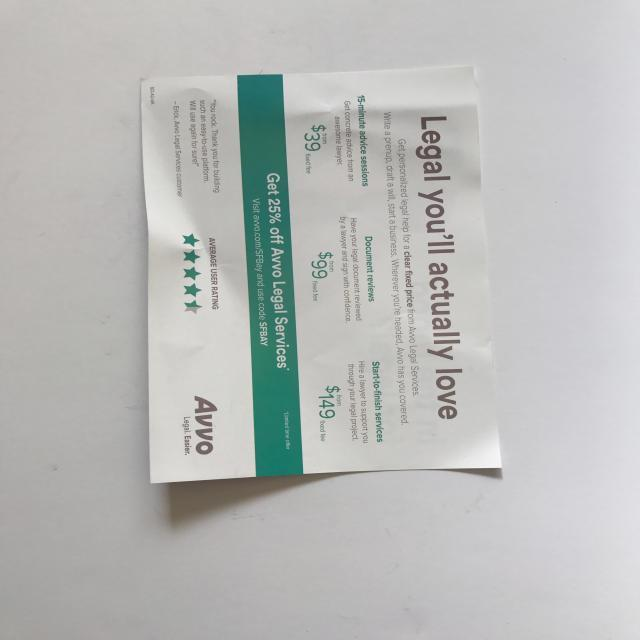paper: (135, 67, 515, 480)
